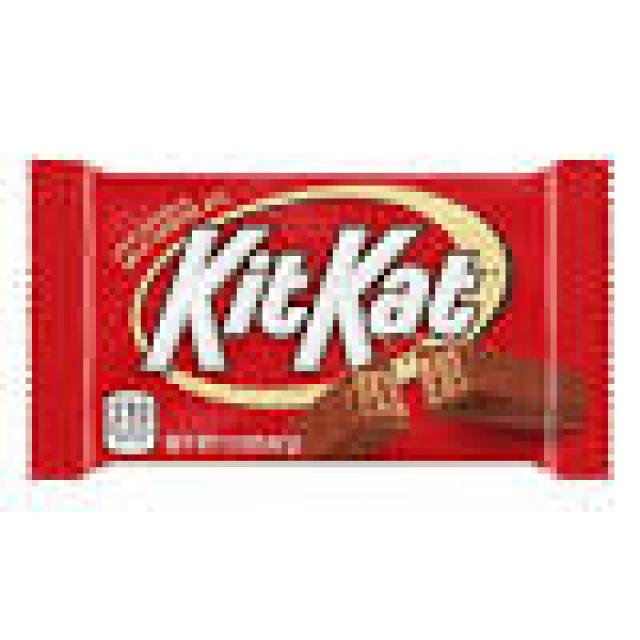kitkat: (30, 155, 615, 484)
